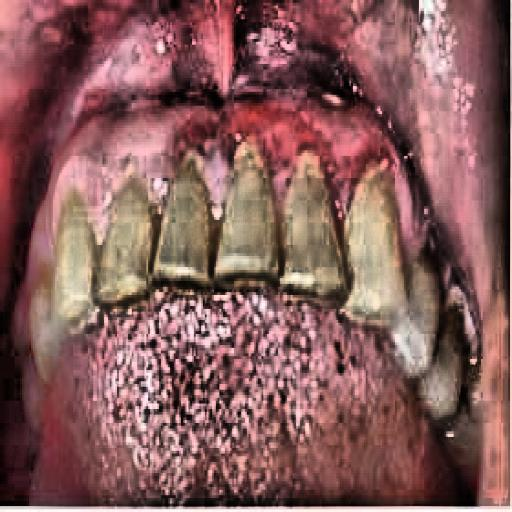Gingivitis: (46, 90, 405, 203)
